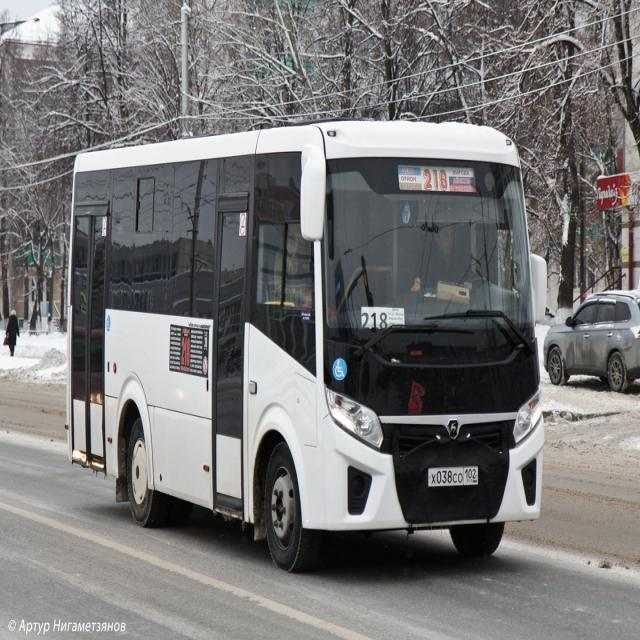number-of-bus: (423, 168, 450, 194), (361, 310, 389, 332), (181, 339, 193, 367)
